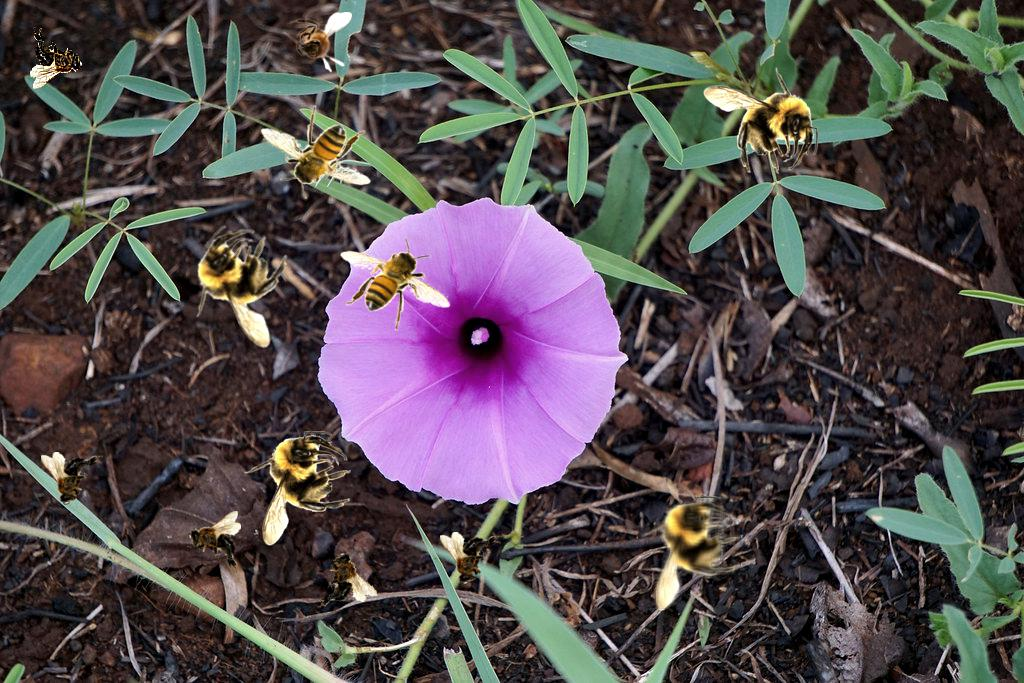Bee: (165, 209, 322, 366), (703, 67, 818, 174), (636, 496, 743, 611), (244, 431, 351, 546), (260, 105, 371, 199), (340, 237, 451, 331), (306, 546, 379, 612), (282, 12, 352, 73), (188, 511, 241, 573), (41, 452, 103, 505), (30, 27, 83, 89), (440, 532, 502, 585)
